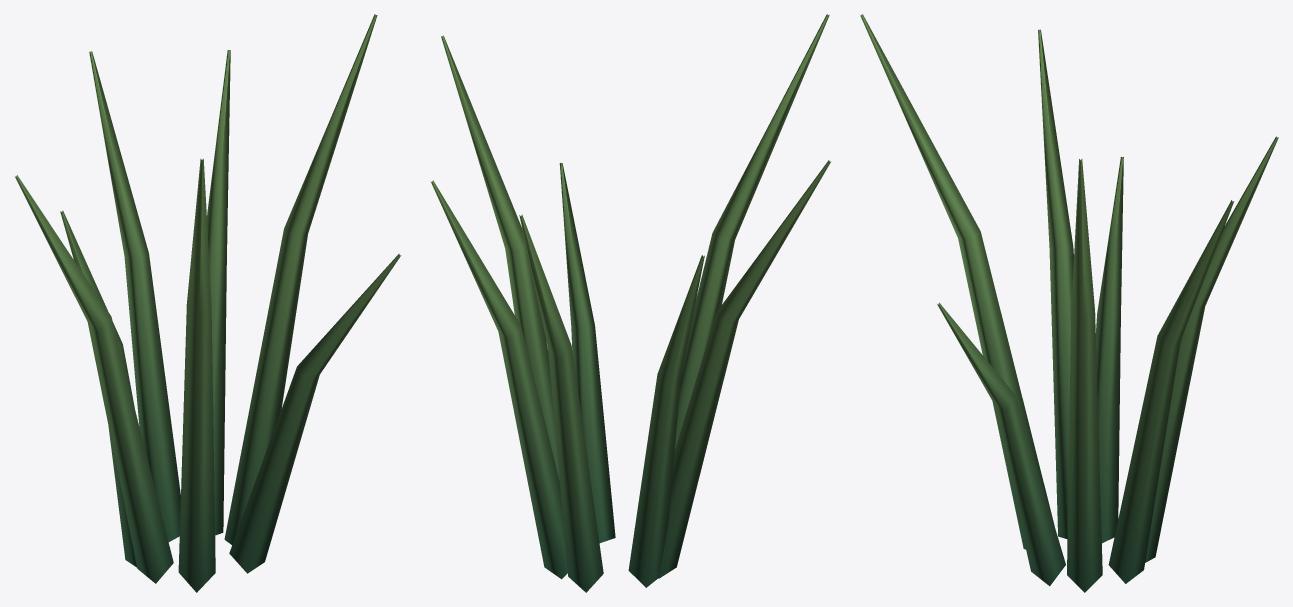
File: grass_tuft.glb
The picture shows the model from 3 angles, left to right: view 1: azimuth 30°, elevation 25°; view 2: azimuth 150°, elevation 25°; view 3: azimuth 270°, elevation 25°; orthographic projection. The views are drawn at different scales.
Visible parts, largest first — view 1: grass_tuft; view 2: grass_tuft; view 3: grass_tuft.
Part boxes in pixels (x1=…): grass_tuft: x1=14, y1=14, x2=401, y2=592; grass_tuft: x1=430, y1=14, x2=830, y2=592; grass_tuft: x1=860, y1=14, x2=1278, y2=592.
Bounding box in the file's own units: 0.2481 × 0.3182 × 0.2429.
